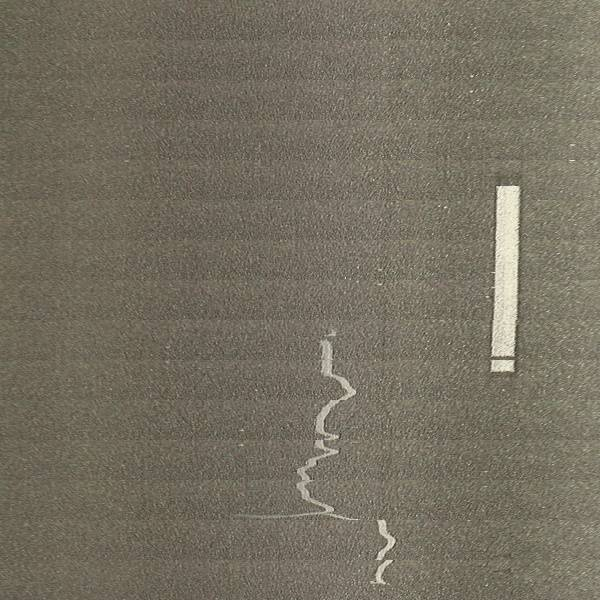road_damage: (291, 324, 403, 591)
